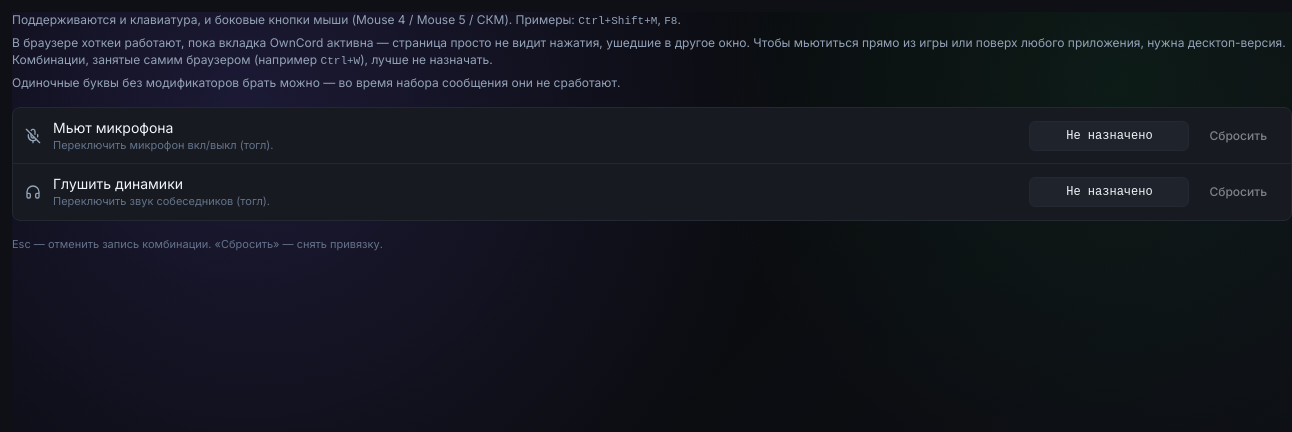
it: KeybindsTab › Esc отменяет запись
Click the button "Не назначено" in the row of "Переключить микрофон вкл/выкл (тогл)." at [1110, 136], box left=1030, top=121, right=1190, bottom=151
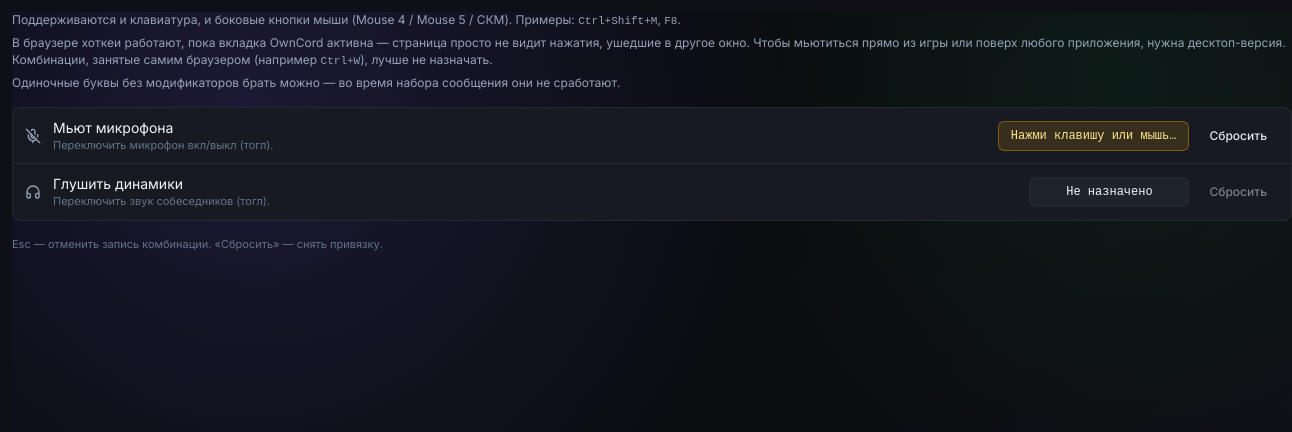
Press Escape
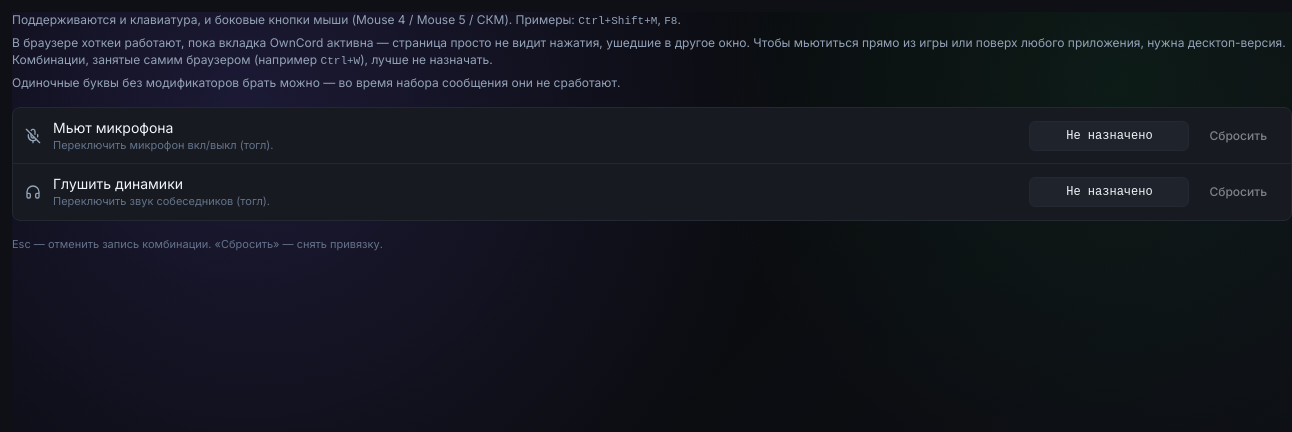
Check: the text "Нажми клавишу или мышь" is gone
